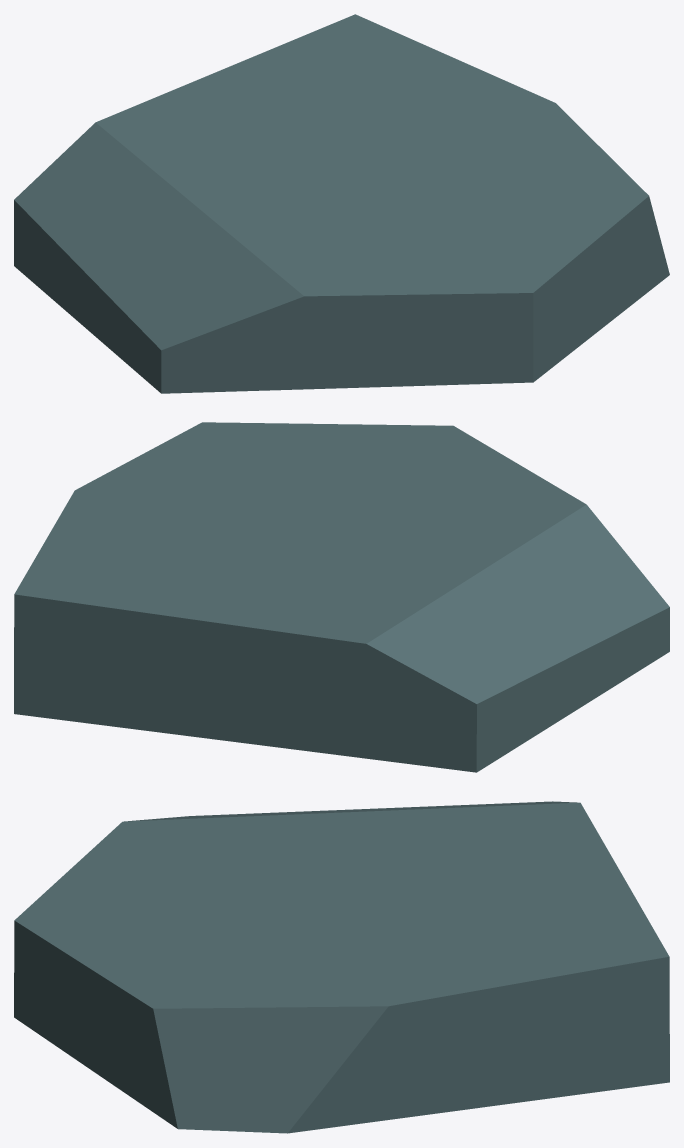
File: brigesCube_009.fbx
3 renders of one model, top to bottom at view 1: azimuth 30°, elevation 25°; view 2: azimuth 150°, elevation 25°; view 3: azimuth 270°, elevation 25°, orthographic. The views are drawn at different scales.
Parts seen in each view (by area): view 1: Cube.009; view 2: Cube.009; view 3: Cube.009.
Part boxes in pixels (x1,y1,x2,y2): Cube.009: (14,14,669,393); Cube.009: (14,422,669,772); Cube.009: (14,801,669,1133).
Bounding box in the file's own units: 50.68 × 11.05 × 51.91.
